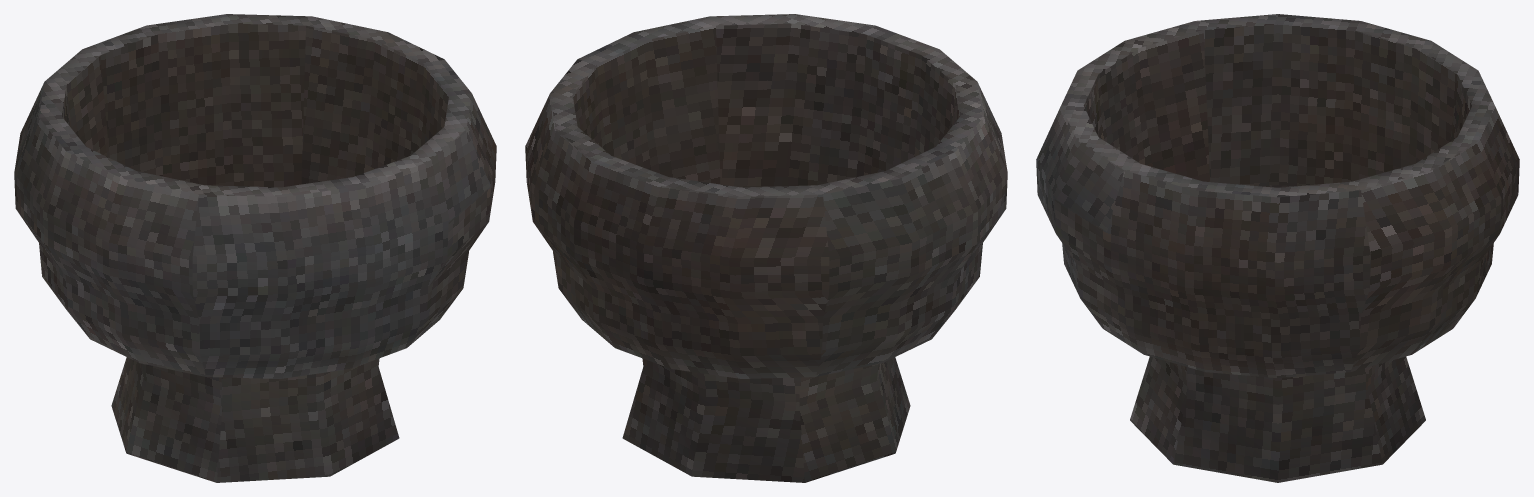
File: Brazier_6.gltf
The picture shows the model from 3 angles, left to right: view 1: azimuth 30°, elevation 25°; view 2: azimuth 150°, elevation 25°; view 3: azimuth 270°, elevation 25°; orthographic projection.
Parts seen in each view (by area): view 1: Brazier_6; view 2: Brazier_6; view 3: Brazier_6.
Boxes of the visible parts, left/top/right/bottom form: Brazier_6: left=14, top=14, right=496, bottom=482; Brazier_6: left=525, top=14, right=1007, bottom=482; Brazier_6: left=1036, top=14, right=1519, bottom=482.
Bounding box in the file's own units: 2.74 × 1.97 × 2.74.
1 material, 1 textured.
